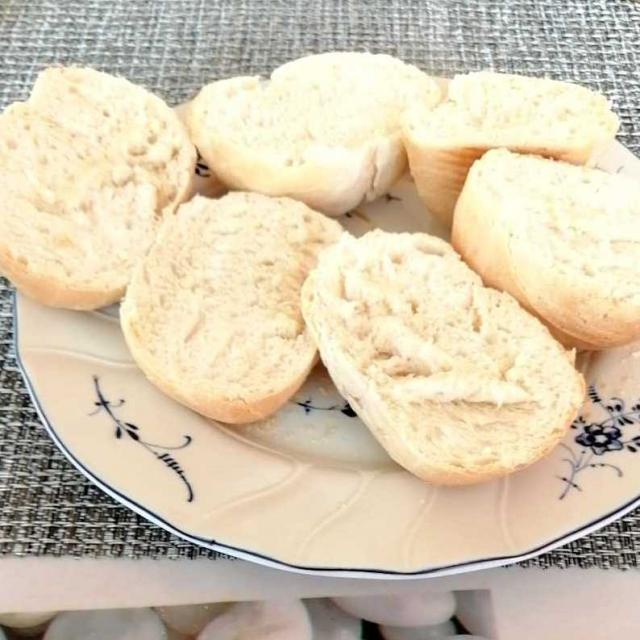bread-white: (12, 54, 613, 481)
